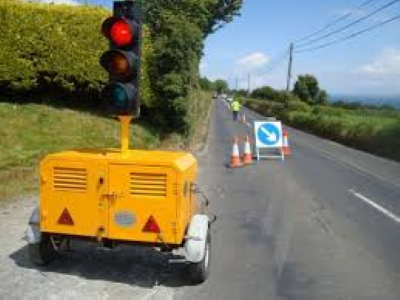trafficlight_red: (99, 14, 135, 115)
